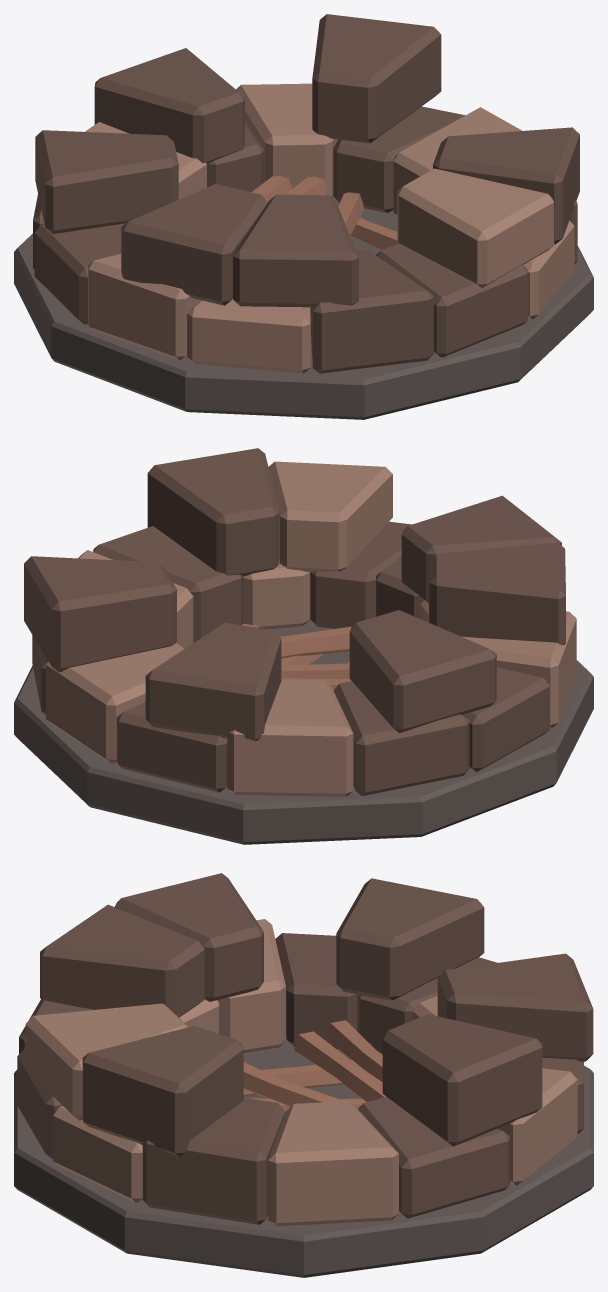
The model's file is bonfire_a002.glb.
3 views of the same model, one above another, from view 1: azimuth 30°, elevation 25°; view 2: azimuth 150°, elevation 25°; view 3: azimuth 270°, elevation 25° (orthographic). The views are drawn at different scales.
Parts seen in each view (by area): view 1: bonfire_a002; view 2: bonfire_a002; view 3: bonfire_a002.
Boxes of the visible parts, box(x1,y1,x2,y2) form: bonfire_a002: box(14, 14, 593, 419); bonfire_a002: box(14, 448, 593, 844); bonfire_a002: box(14, 873, 593, 1277).
Size of the model in its own units: 1.28 by 0.4192 by 1.22.
Materials: 1 (1 with a texture image).
